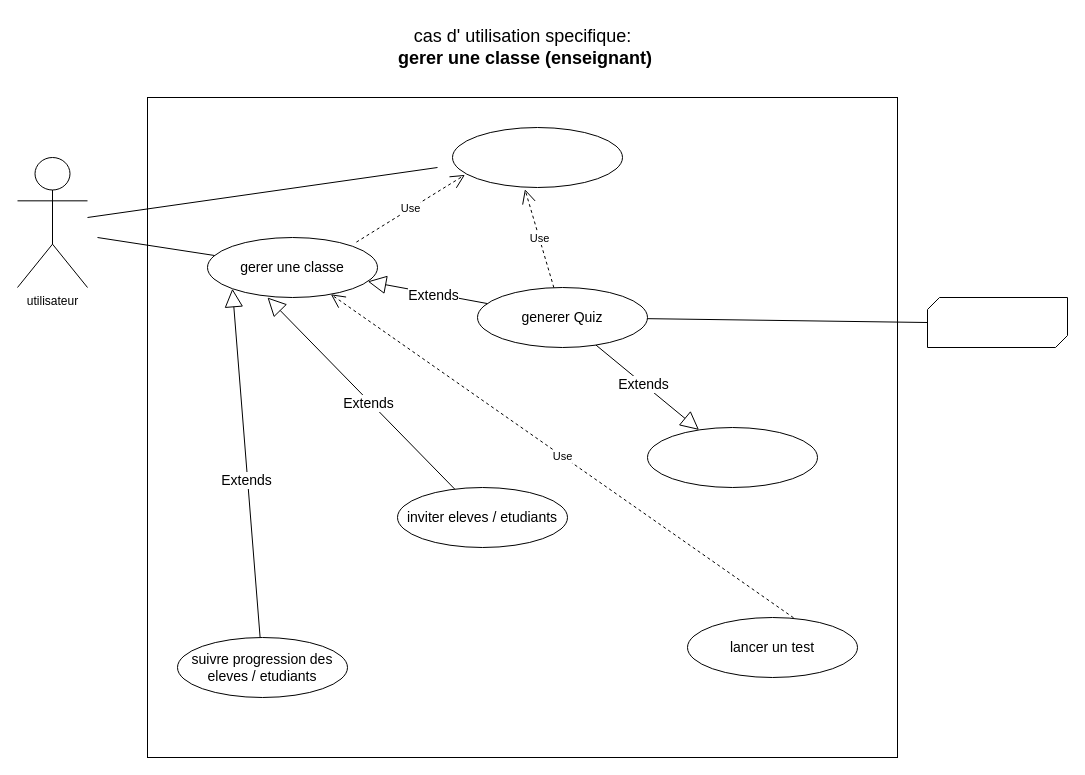
The diagram is 1085 pixels wide and 775 high, and some of its shapes have lost their labels. Here are the shapes that lost their labels. From the top down, the centre of each, then its label:
At point 537,157: "uploader fichier".
At point 997,322: "modele IA".
At point 732,457: "gerer (modifier , ajouter , ...) quiz , exercices".
